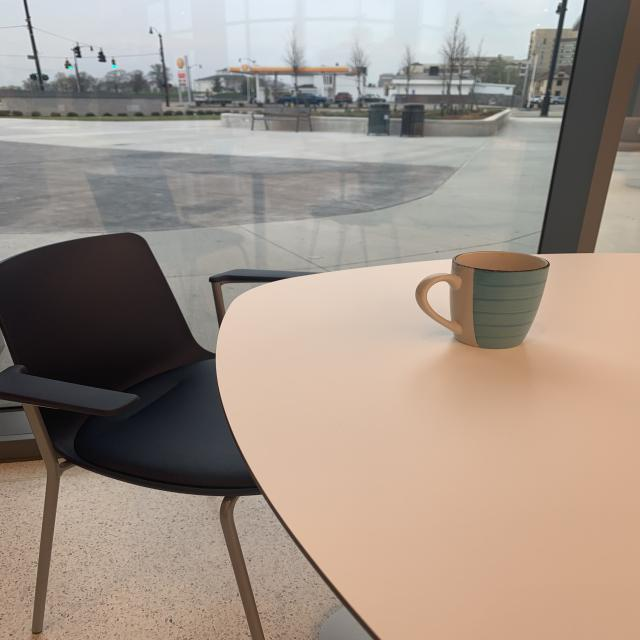Cup: (414, 248, 552, 356)
